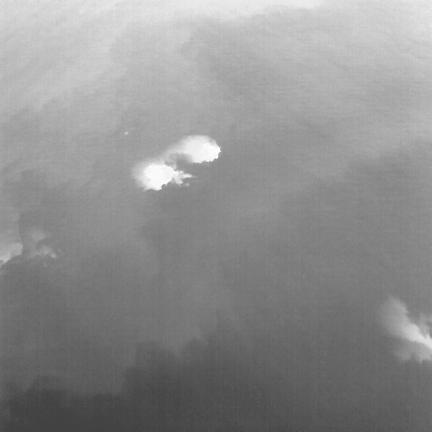flukeprints: (138, 163, 178, 190), (194, 141, 220, 162)
